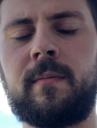without_mask: (1, 2, 97, 128)
